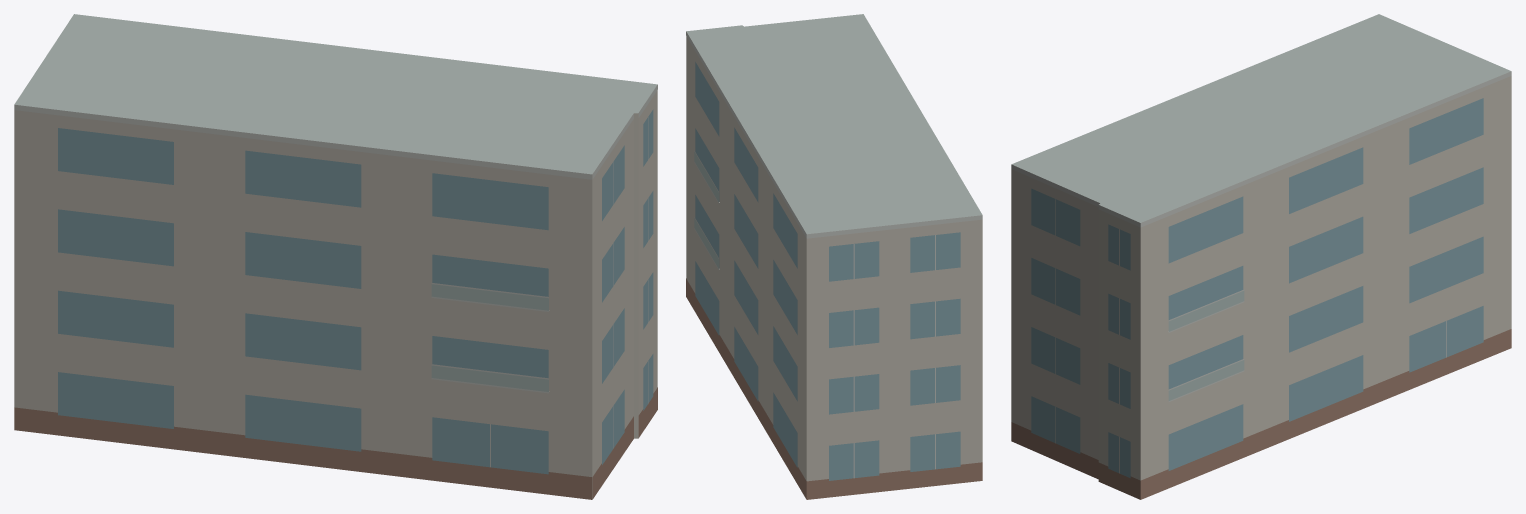
Rendered from survey-upis-32597997.glb.
The picture shows the model from 3 angles, left to right: view 1: azimuth 30°, elevation 25°; view 2: azimuth 150°, elevation 25°; view 3: azimuth 270°, elevation 25°; orthographic projection. The views are drawn at different scales.
Visible parts, largest first — view 1: survey-upis-32597997.tmp; view 2: survey-upis-32597997.tmp; view 3: survey-upis-32597997.tmp.
Boxes of the visible parts, x1,y1,x2,y2 form: survey-upis-32597997.tmp: (14, 14, 657, 499); survey-upis-32597997.tmp: (686, 14, 982, 499); survey-upis-32597997.tmp: (1011, 14, 1511, 499).
Size of the model in its own units: 23.97 by 14.8 by 24.24.
